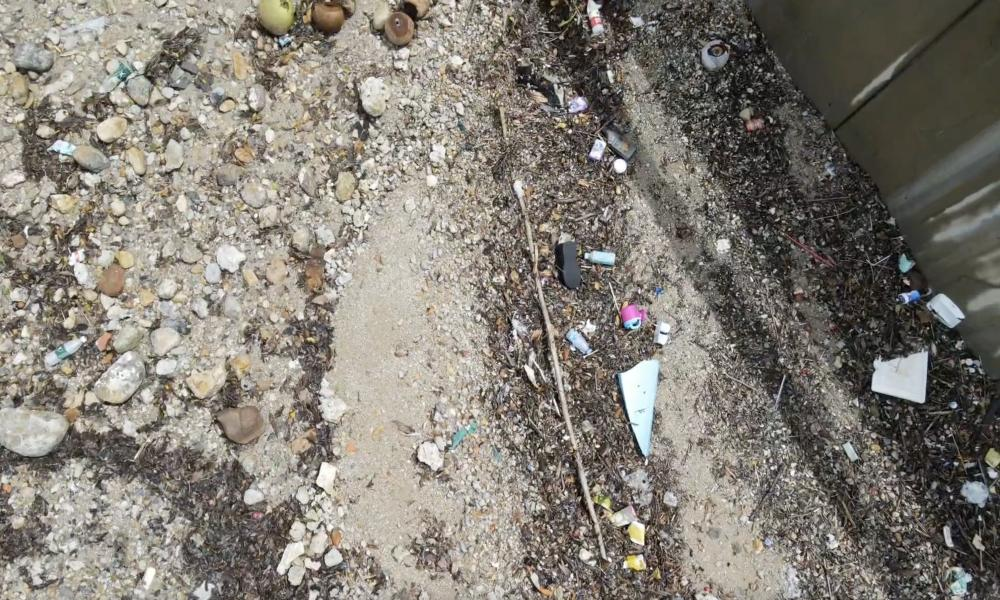plastic bottle: (100, 64, 132, 94), (565, 325, 591, 359), (583, 246, 615, 270), (587, 1, 603, 35)
